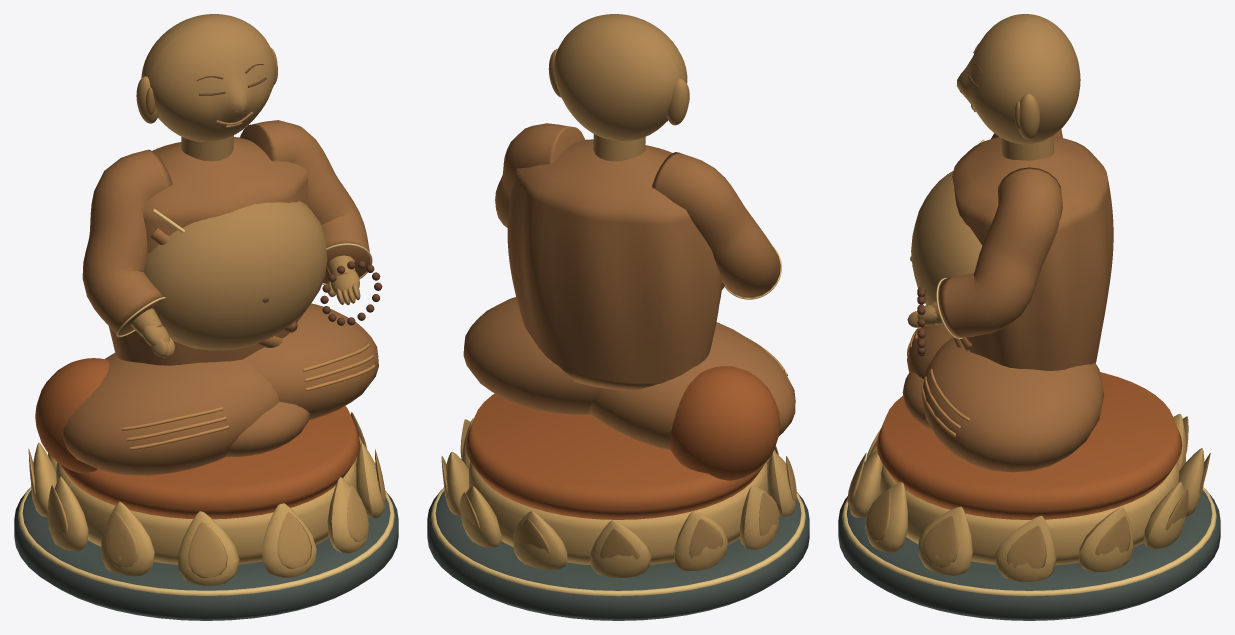
The model's file is arhat_18.glb.
3 views of the same model, side by side, from view 1: azimuth 30°, elevation 25°; view 2: azimuth 150°, elevation 25°; view 3: azimuth 270°, elevation 25° (orthographic).
Parts seen in each view (by area): view 1: arhat_18_ArhatDrapery, arhat_18_WarmBronze, arhat_18_SaffronDrapery, arhat_18_AntiqueGold, arhat_18_CarvedPlinth, arhat_18_GoldPetalRelief, arhat_18_RaisedGoldBorders, arhat_18_DraperyFoldHighlights, arhat_18_PolishedPrayerBeads; view 2: arhat_18_ArhatDrapery, arhat_18_SaffronDrapery, arhat_18_CarvedPlinth, arhat_18_AntiqueGold, arhat_18_WarmBronze, arhat_18_GoldPetalRelief, arhat_18_RaisedGoldBorders; view 3: arhat_18_ArhatDrapery, arhat_18_SaffronDrapery, arhat_18_WarmBronze, arhat_18_AntiqueGold, arhat_18_CarvedPlinth, arhat_18_GoldPetalRelief, arhat_18_RaisedGoldBorders, arhat_18_DraperyFoldHighlights.
Boxes of the visible parts, x1=… form: arhat_18_ArhatDrapery: x1=63, y1=120, x2=378, y2=475; arhat_18_WarmBronze: x1=130, y1=14, x2=360, y2=357; arhat_18_SaffronDrapery: x1=35, y1=358, x2=360, y2=519; arhat_18_AntiqueGold: x1=31, y1=436, x2=385, y2=585; arhat_18_CarvedPlinth: x1=14, y1=489, x2=398, y2=620; arhat_18_GoldPetalRelief: x1=28, y1=412, x2=385, y2=577; arhat_18_RaisedGoldBorders: x1=18, y1=209, x2=394, y2=595; arhat_18_DraperyFoldHighlights: x1=121, y1=343, x2=375, y2=450; arhat_18_PolishedPrayerBeads: x1=320, y1=260, x2=382, y2=325; arhat_18_ArhatDrapery: x1=463, y1=123, x2=795, y2=449; arhat_18_SaffronDrapery: x1=465, y1=366, x2=780, y2=519; arhat_18_CarvedPlinth: x1=427, y1=489, x2=809, y2=620; arhat_18_AntiqueGold: x1=444, y1=418, x2=796, y2=577; arhat_18_WarmBronze: x1=548, y1=14, x2=724, y2=289; arhat_18_GoldPetalRelief: x1=441, y1=419, x2=796, y2=559; arhat_18_RaisedGoldBorders: x1=431, y1=247, x2=805, y2=596; arhat_18_ArhatDrapery: x1=902, y1=129, x2=1113, y2=472; arhat_18_SaffronDrapery: x1=876, y1=372, x2=1182, y2=519; arhat_18_WarmBronze: x1=907, y1=14, x2=1080, y2=336; arhat_18_AntiqueGold: x1=848, y1=414, x2=1204, y2=581; arhat_18_CarvedPlinth: x1=838, y1=489, x2=1220, y2=620; arhat_18_GoldPetalRelief: x1=847, y1=416, x2=1210, y2=568; arhat_18_RaisedGoldBorders: x1=842, y1=139, x2=1216, y2=596; arhat_18_DraperyFoldHighlights: x1=907, y1=327, x2=969, y2=436.
Size of the model in its own units: 0.92 by 1.39 by 0.92.
